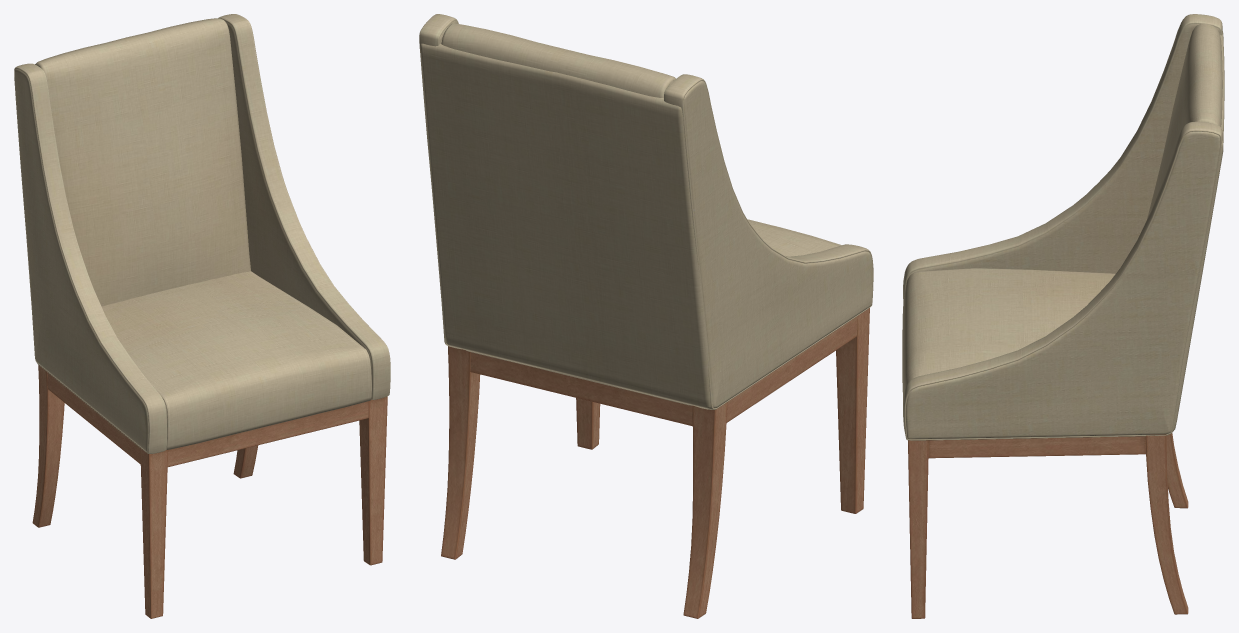
File: office_chair_B07HSBRV6W.glb
The picture shows the model from 3 angles, left to right: view 1: azimuth 30°, elevation 25°; view 2: azimuth 150°, elevation 25°; view 3: azimuth 270°, elevation 25°; orthographic projection. The views are drawn at different scales.
Visible parts, largest first — view 1: RootNode; view 2: RootNode; view 3: RootNode.
Part boxes in pixels (x1=…): RootNode: x1=14, y1=14, x2=390, y2=618; RootNode: x1=419, y1=14, x2=873, y2=618; RootNode: x1=902, y1=14, x2=1224, y2=618.
Bounding box in the file's own units: 0.5754 × 1.02 × 0.611.
Materials: 1 (1 with a texture image).
